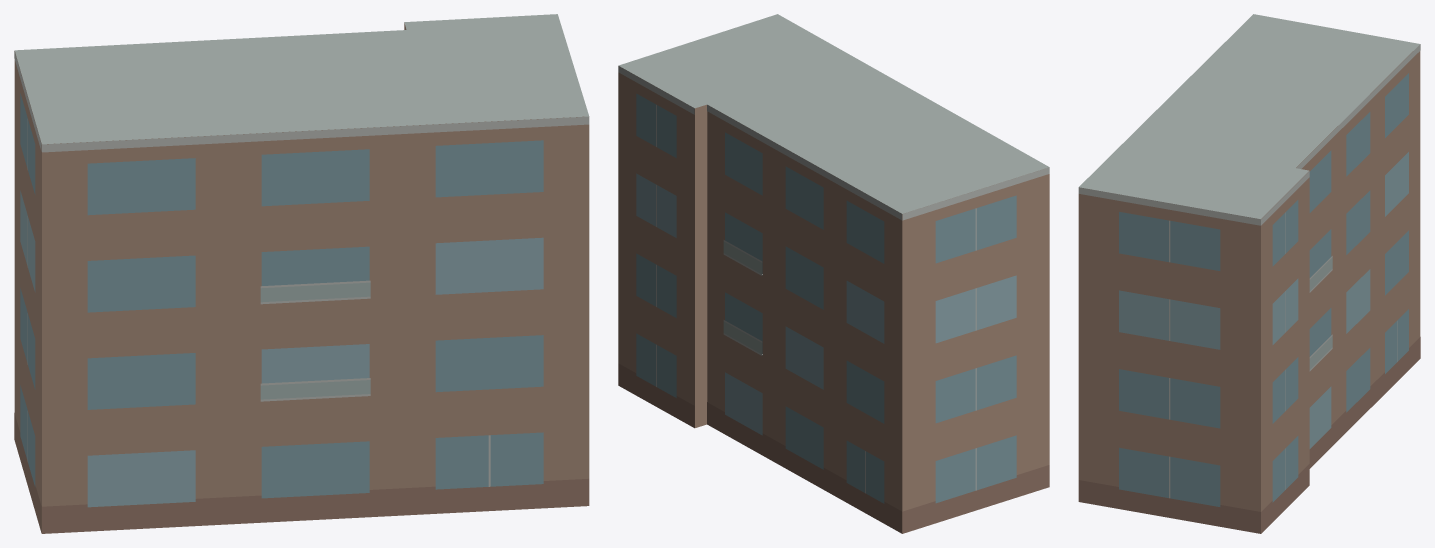
File: survey-upis-32898390.glb
The picture shows the model from 3 angles, left to right: view 1: azimuth 30°, elevation 25°; view 2: azimuth 150°, elevation 25°; view 3: azimuth 270°, elevation 25°; orthographic projection. The views are drawn at different scales.
Visible parts, largest first — view 1: survey-upis-32898390.tmp; view 2: survey-upis-32898390.tmp; view 3: survey-upis-32898390.tmp.
Boxes of the visible parts, box(x1,y1,x2,y2) form: survey-upis-32898390.tmp: box(14, 14, 589, 533); survey-upis-32898390.tmp: box(618, 14, 1049, 533); survey-upis-32898390.tmp: box(1078, 14, 1420, 533).
Size of the model in its own units: 16.37 by 11.7 by 11.53.
